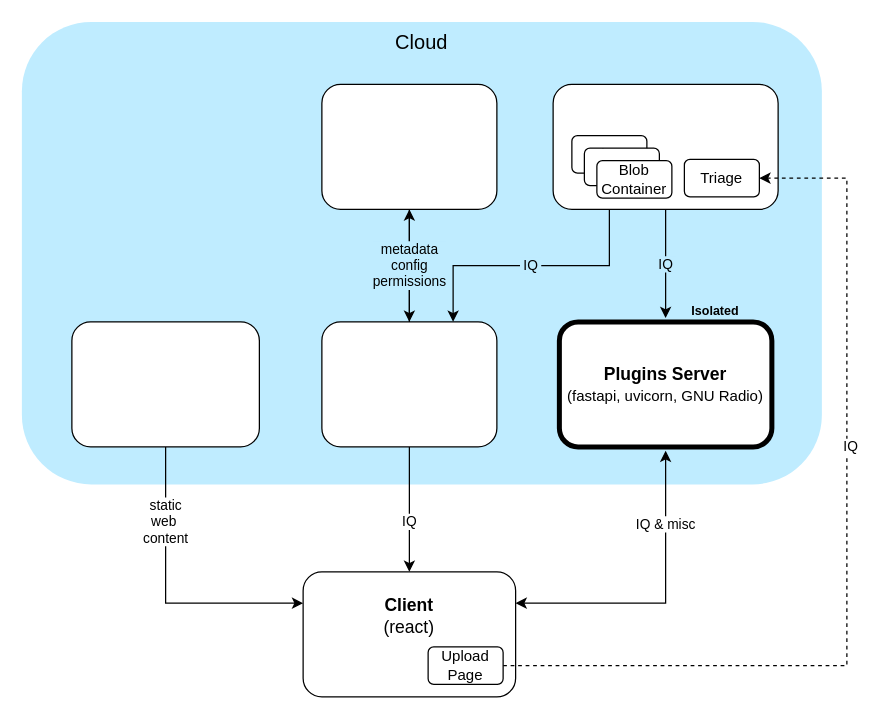
Some shapes in this 879 by 719 pixel diagram are drawn without their labels. Here are the shapes that lost their labels. From the top down, the box of each, then its label:
(321, 83, 497, 209): Database (mongodB)
(552, 83, 778, 209): Blob Storage
(71, 321, 259, 447): Frontend Server (served statically)
(321, 321, 497, 447): Backend (fastapi, uvicorn)
